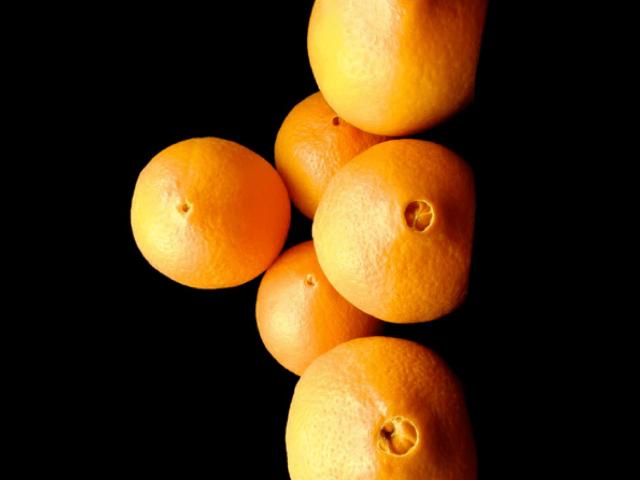Oranges: (312, 142, 474, 320), (287, 335, 473, 480), (306, 0, 486, 134), (130, 137, 290, 287), (255, 244, 358, 376), (276, 94, 369, 218)
